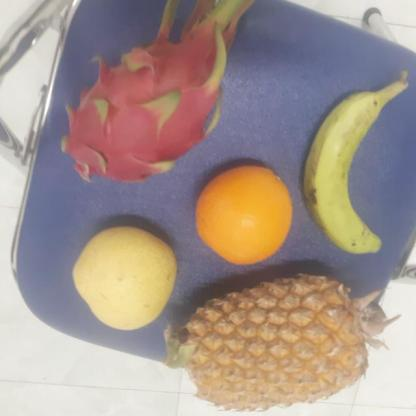banana: (299, 84, 393, 252)
guava: (68, 226, 176, 326), (191, 166, 295, 264)
pineapple: (173, 272, 371, 412)
pitaya: (57, 45, 226, 181)
